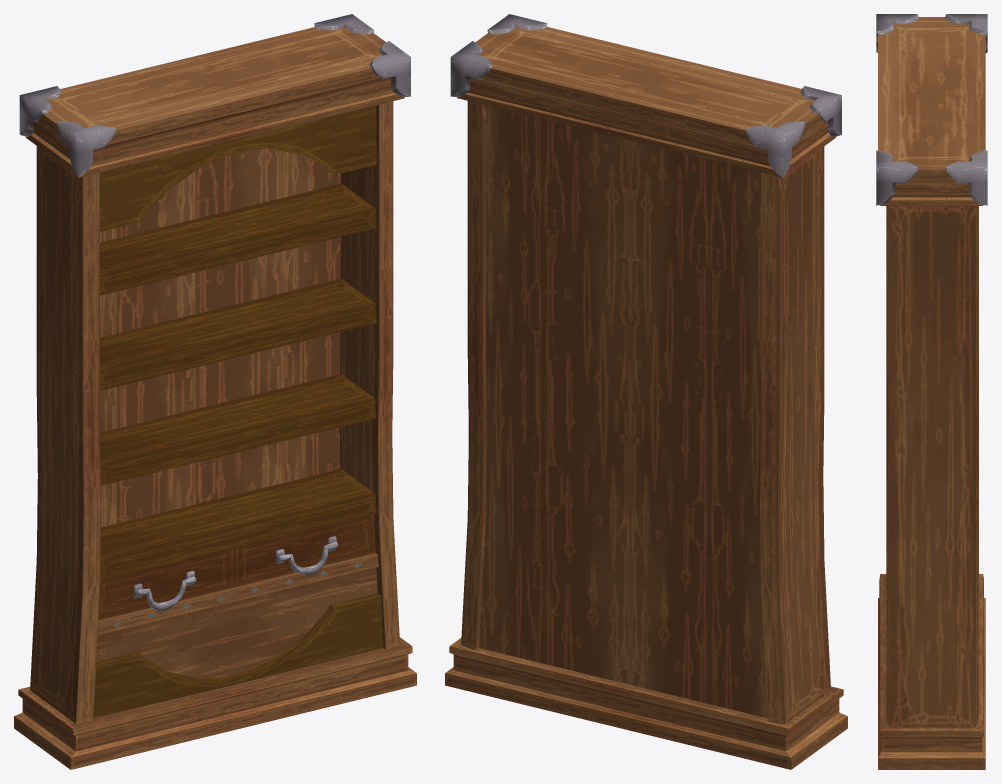
The model's file is Bookcase_2.gltf.
3 renders of one model, left to right at view 1: azimuth 30°, elevation 25°; view 2: azimuth 150°, elevation 25°; view 3: azimuth 270°, elevation 25°, orthographic. The views are drawn at different scales.
Parts seen in each view (by area): view 1: Bookcase_2; view 2: Bookcase_2; view 3: Bookcase_2.
Part boxes in pixels (x1,y1,x2,y2): Bookcase_2: [14, 14, 416, 769]; Bookcase_2: [445, 14, 847, 769]; Bookcase_2: [876, 14, 987, 769].
Size of the model in its own units: 1.46 by 2.54 by 0.429.
2 materials, 2 textured.
